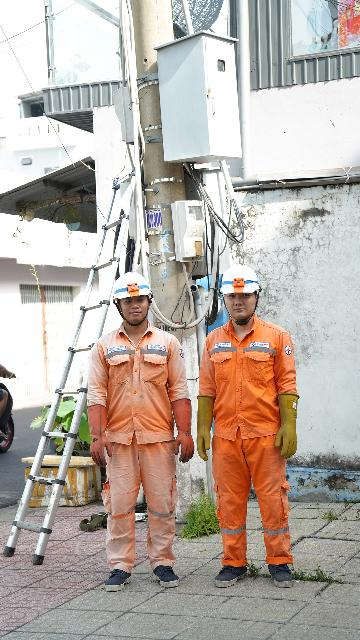gloves: (79, 395, 123, 475), (257, 392, 303, 461), (166, 395, 207, 467), (186, 379, 218, 460)
helmet: (100, 263, 160, 317), (199, 252, 258, 299)
shoes: (131, 551, 176, 594), (92, 562, 131, 595), (214, 555, 250, 589), (268, 556, 302, 592)
